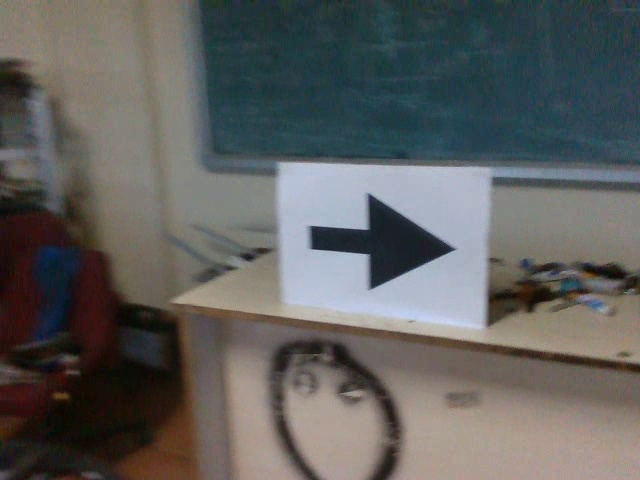Right: (307, 191, 465, 296)
